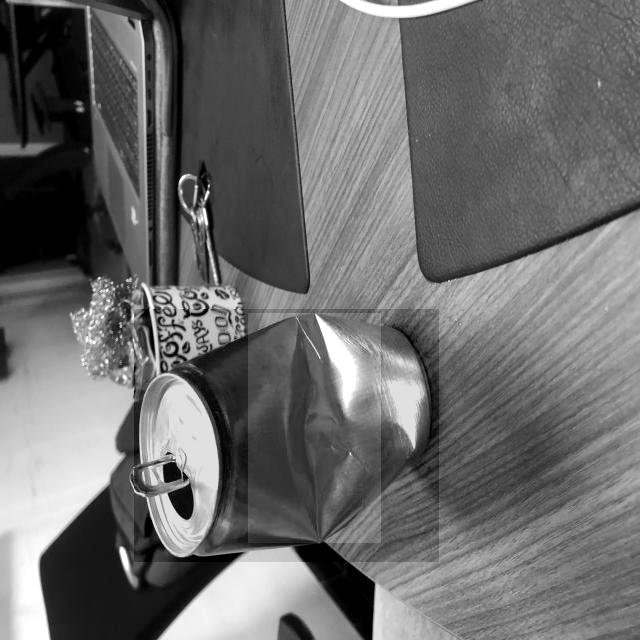deform: (248, 313, 381, 543)
metal: (135, 310, 439, 562)
